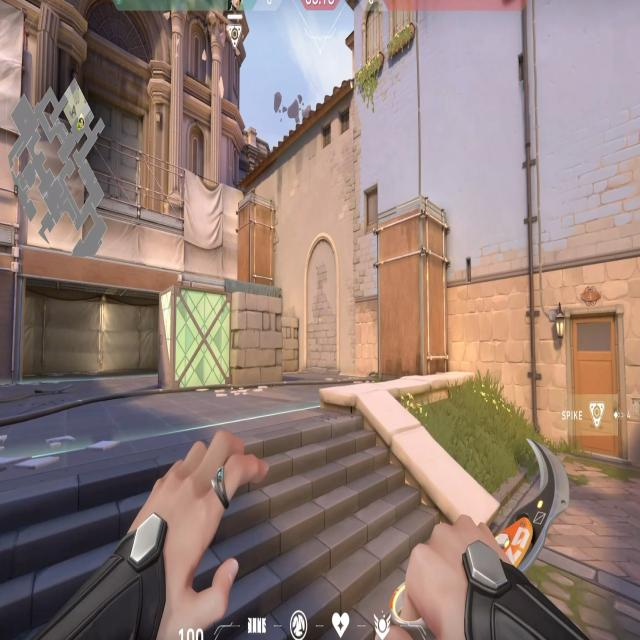A_Heaven_Box: (238, 195, 278, 292)
A_Hell: (6, 245, 195, 376)
A_Site_Box: (155, 289, 284, 383)
